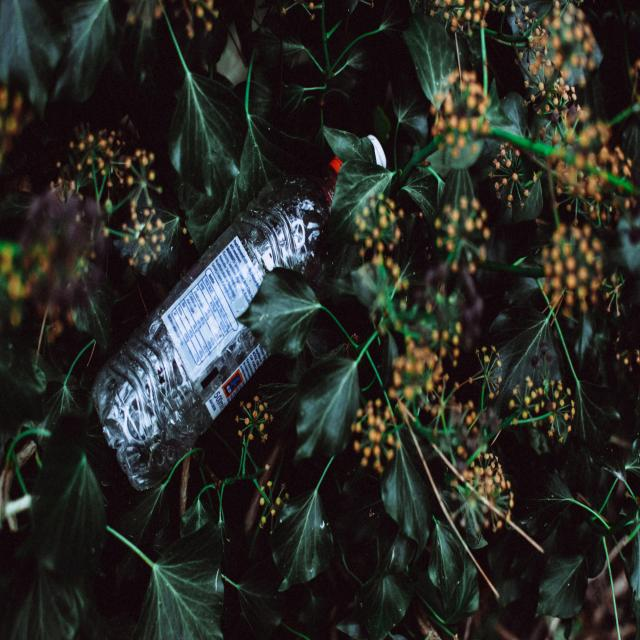bottle: (78, 107, 404, 504)
